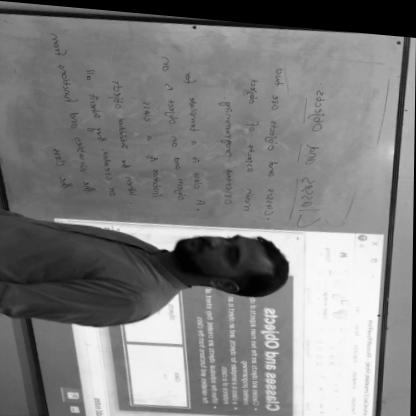Handwritten text: (42, 19, 102, 200), (77, 55, 121, 202), (295, 69, 331, 228), (155, 46, 191, 204), (104, 64, 144, 203), (175, 56, 210, 206), (260, 52, 289, 216), (136, 92, 167, 201), (214, 85, 240, 207), (241, 60, 261, 211), (45, 135, 76, 197)
Lecturer: (0, 203, 302, 337)
Whiteboard: (0, 13, 410, 416)
